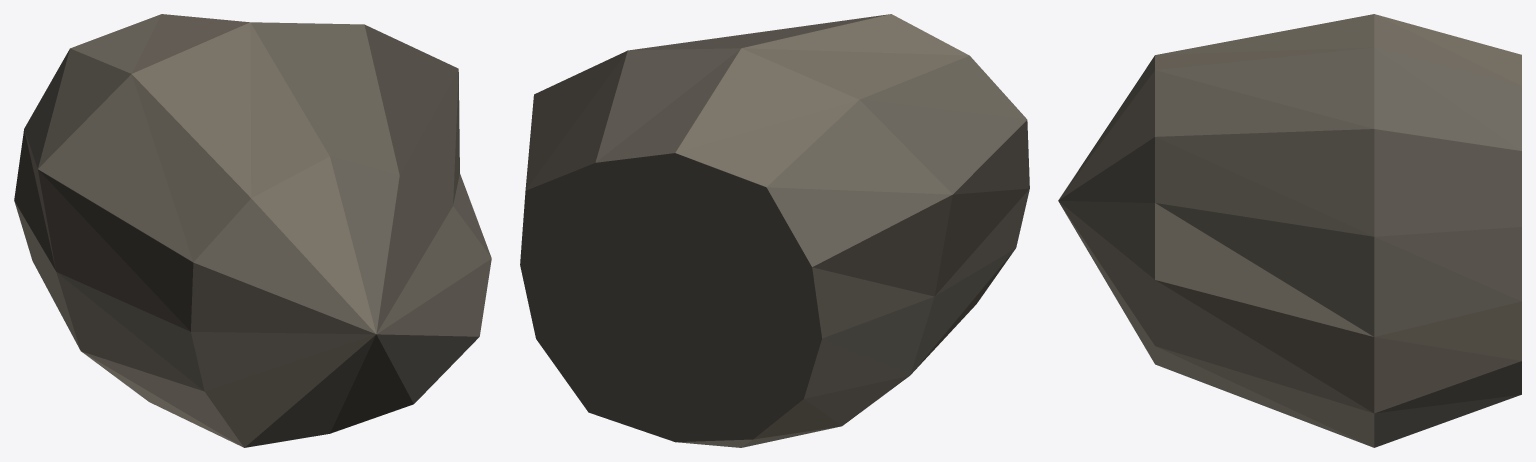
The model's file is rock.obj.
3 renders of one model, left to right at view 1: azimuth 30°, elevation 25°; view 2: azimuth 150°, elevation 25°; view 3: azimuth 270°, elevation 25°, orthographic. The views are drawn at different scales.
Parts seen in each view (by area): view 1: rock; view 2: rock; view 3: rock.
Boxes of the visible parts, bbox=[...] form: rock: bbox=[14, 14, 491, 447]; rock: bbox=[520, 14, 1029, 447]; rock: bbox=[1058, 14, 1521, 447].
Bounding box in the file's own units: 1.1 × 1 × 1.1.
